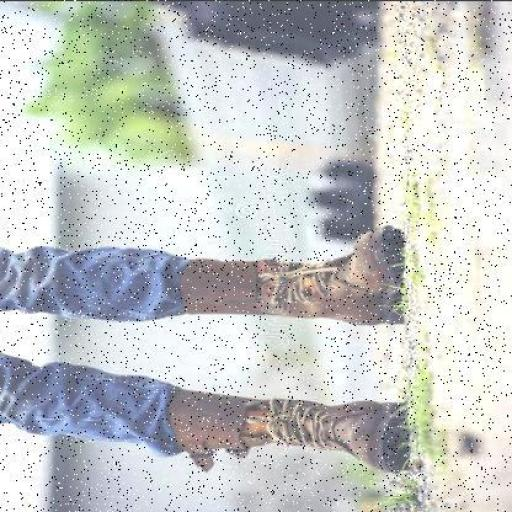safety_shoe: (192, 224, 411, 316), (177, 386, 393, 466)
